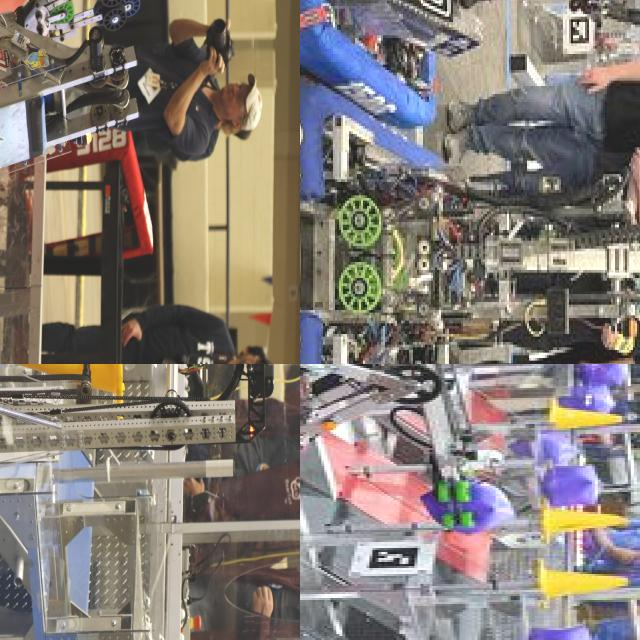FRC-Robots: (300, 130, 640, 364), (0, 364, 250, 592), (0, 0, 190, 269), (300, 364, 508, 545), (300, 0, 527, 79)
